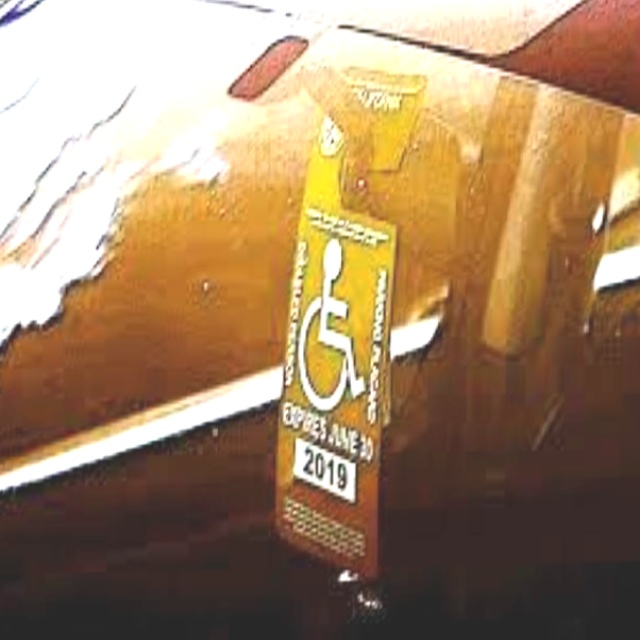ISA: (298, 239, 365, 411)
